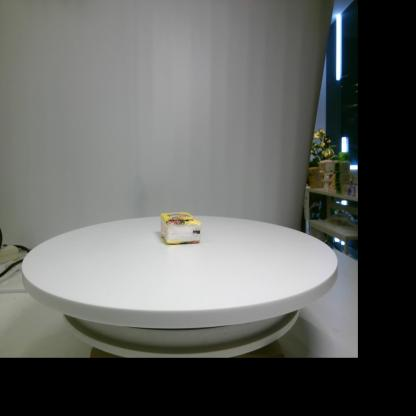Tissue: (160, 212, 202, 244)
